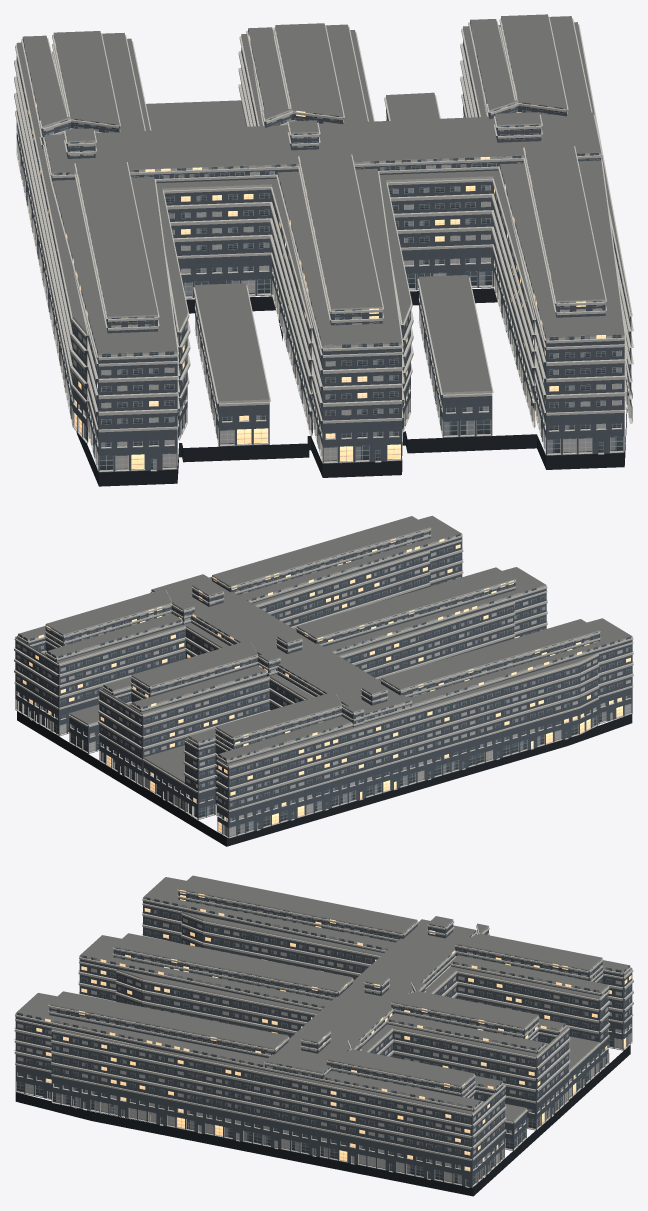
The model's file is z2a_technopark_wing.glb.
3 renders of one model, top to bottom at view 1: azimuth 30°, elevation 25°; view 2: azimuth 150°, elevation 25°; view 3: azimuth 270°, elevation 25°, orthographic. The views are drawn at different scales.
Visible parts, largest first — view 1: z2a_technopark_wing; view 2: z2a_technopark_wing; view 3: z2a_technopark_wing.
Part boxes in pixels (x1,y1,x2,y2): z2a_technopark_wing: (14,14,633,486); z2a_technopark_wing: (14,515,633,846); z2a_technopark_wing: (14,875,633,1196).
Bounding box in the file's own units: 157 × 33.15 × 177.
3 materials, 3 textured.
